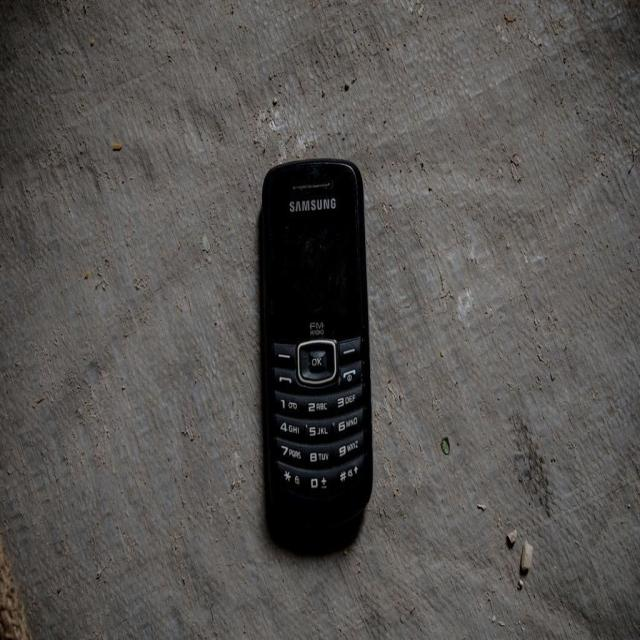Phone: (258, 158, 372, 555)
